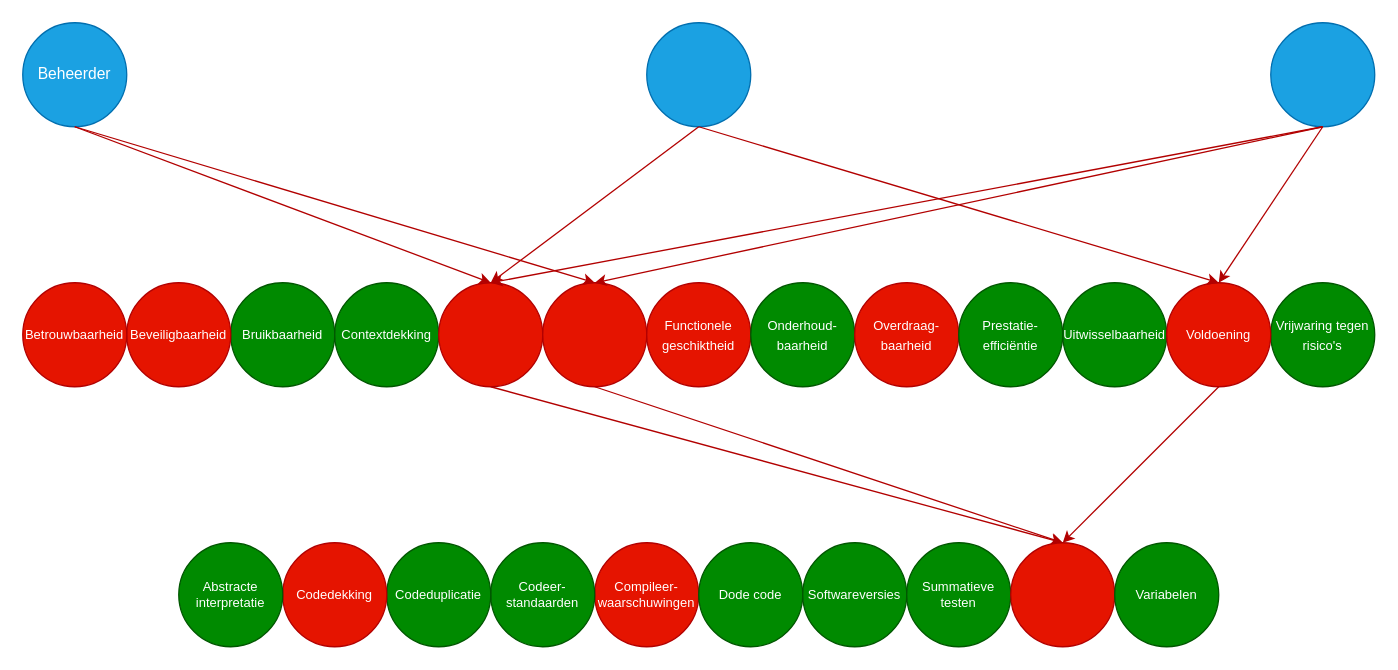
This 1398x670 diagram has some shape labels left out. The shapes that lost their labels are listed below. From the top down, each one's centre as x and y in pixels, then its label:
At [698,74]: "Gebruiker".
At [1322,74]: "Ontwikkelaar".
At [490,334]: "Effectiviteit".
At [594,334]: "Efficiëntie".
At [1062,594]: "System Usability Scale".
